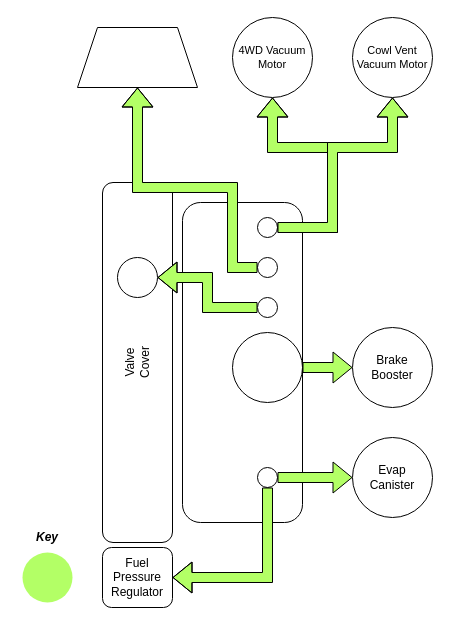
The diagram is 450 pixels wide and 625 high, and some of its shapes have lost their labels. The centre of each missing label's shape, as x and y in pixels:
"MAP Sensor" belongs at (x=137, y=57).
"Throttle Body" belongs at (x=267, y=367).
"Vacuum Line" belongs at (x=47, y=577).
